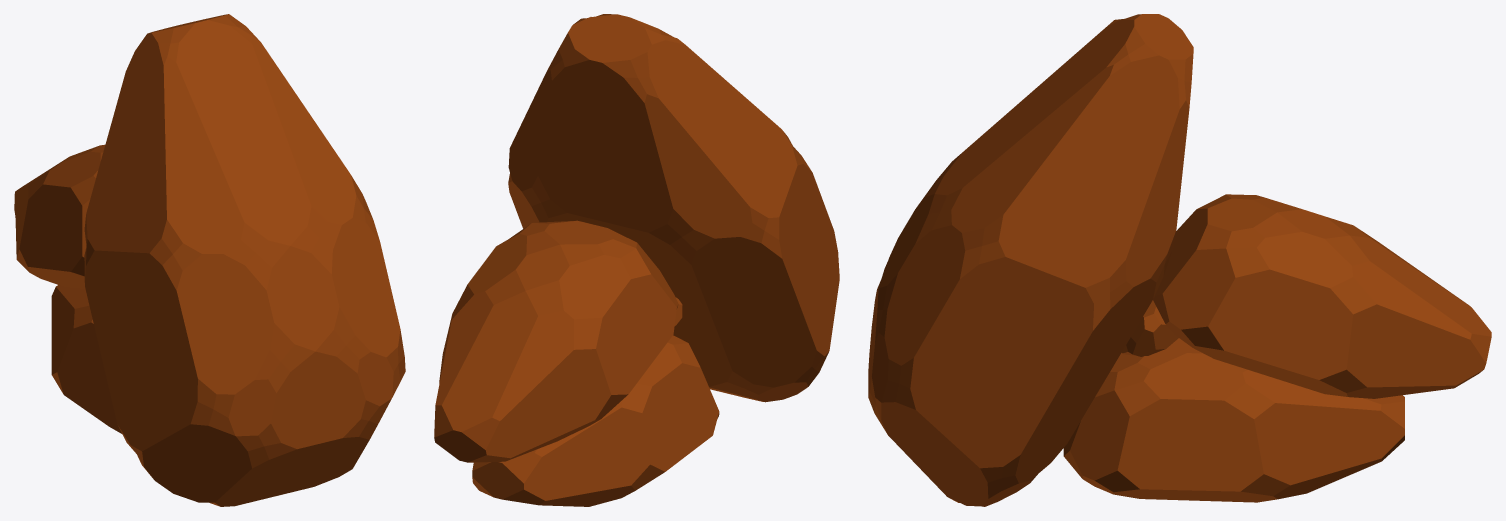
File: pedras1.fbx
3 views of the same model, side by side, from view 1: azimuth 30°, elevation 25°; view 2: azimuth 150°, elevation 25°; view 3: azimuth 270°, elevation 25° (orthographic). The views are drawn at different scales.
Visible parts, largest first — view 1: montanha de pedra 1; view 2: montanha de pedra 1; view 3: montanha de pedra 1.
Part boxes in pixels (x1=…): montanha de pedra 1: x1=14, y1=14, x2=405, y2=506; montanha de pedra 1: x1=434, y1=14, x2=839, y2=506; montanha de pedra 1: x1=868, y1=14, x2=1491, y2=506.
Bounding box in the file's own units: 309 × 463 × 572.
